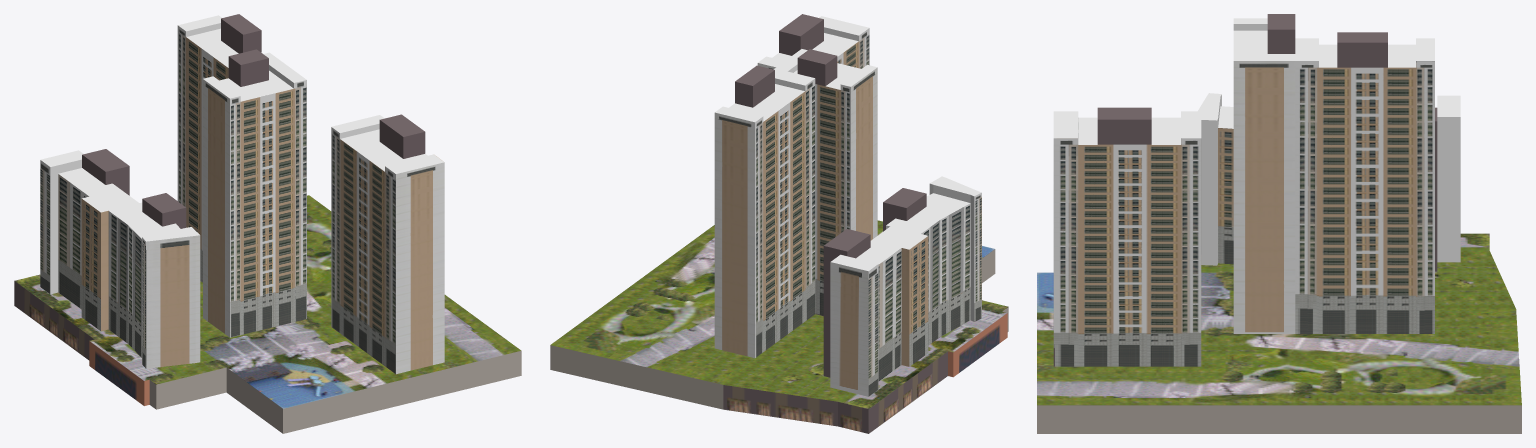
Rendered from ICJ00101.glb.
3 views of the same model, side by side, from view 1: azimuth 30°, elevation 25°; view 2: azimuth 150°, elevation 25°; view 3: azimuth 270°, elevation 25° (orthographic). The views are drawn at different scales.
Visible parts, largest first — view 1: MainBuilding; view 2: MainBuilding; view 3: MainBuilding.
Part boxes in pixels (x1,y1,x2,y2): MainBuilding: (14,14,521,433); MainBuilding: (550,14,1008,433); MainBuilding: (1037,14,1521,433).
Bounding box in the file's own units: 3007 × 2565 × 3523.
1 material, 1 textured.
